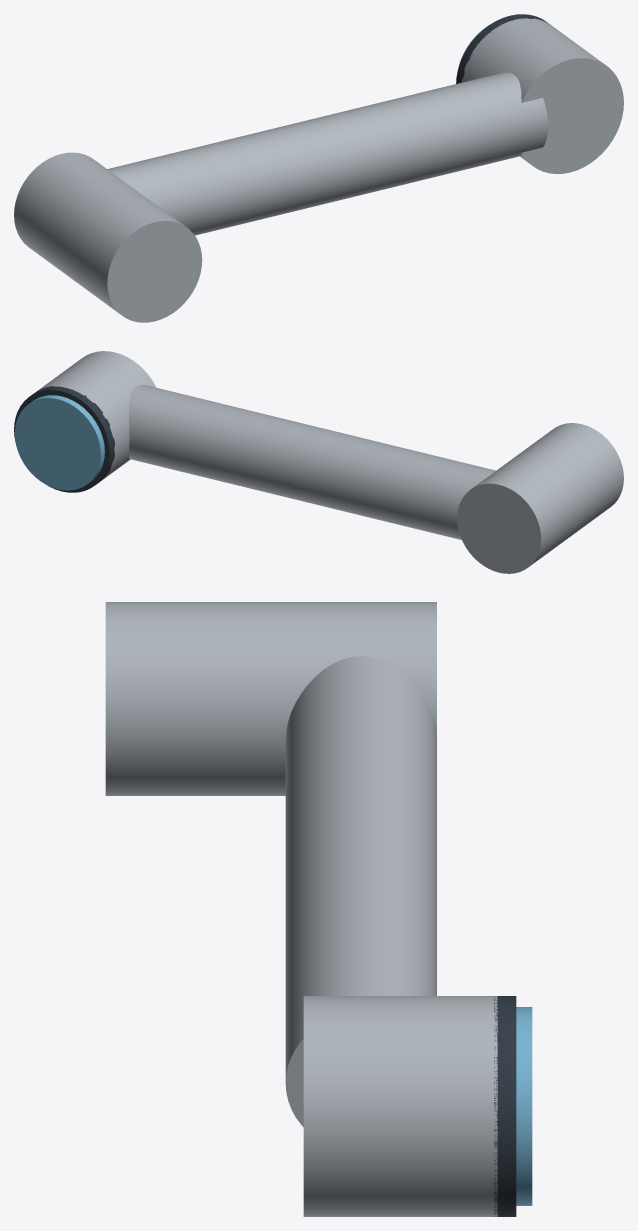
File: forearm_link.obj
3 renders of one model, top to bottom at view 1: azimuth 30°, elevation 25°; view 2: azimuth 150°, elevation 25°; view 3: azimuth 270°, elevation 25°, orthographic. The views are drawn at different scales.
Parts seen in each view (by area): view 1: forearm_tube, wrist_support, elbow, elbow_seal; view 2: forearm_tube, wrist_support, elbow_cap, elbow, elbow_seal; view 3: forearm_tube, wrist_support, elbow, elbow_seal, elbow_cap.
Part boxes in pixels (box(x1,y1,x2,y2)): forearm_tube: box(107, 72, 547, 235); wrist_support: box(14, 152, 202, 322); elbow: box(461, 18, 623, 173); elbow_seal: box(456, 14, 548, 83); forearm_tube: box(129, 385, 495, 539); wrist_support: box(457, 423, 623, 573); elbow_cap: box(15, 395, 104, 490); elbow: box(36, 351, 156, 480); elbow_seal: box(14, 386, 114, 492); forearm_tube: box(285, 656, 436, 1126); wrist_support: box(105, 602, 436, 795); elbow: box(303, 996, 497, 1216); elbow_seal: box(494, 996, 516, 1216); elbow_cap: box(516, 1007, 532, 1205).
Bounding box in the file's own units: 0.6276 × 0.1184 × 0.2284.
